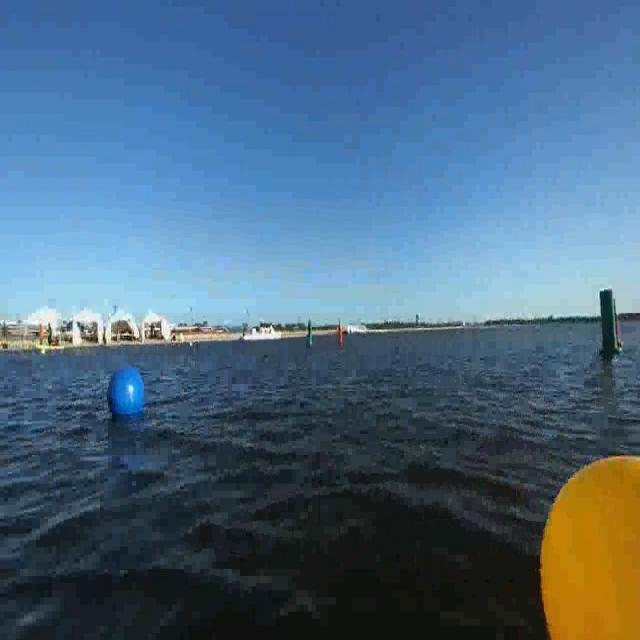blue-buoy: (108, 366, 146, 420)
green-column-buoy: (597, 284, 617, 359), (306, 318, 313, 352)
red-column-buoy: (616, 317, 623, 353), (337, 320, 342, 350)
yellow-buoy: (534, 449, 639, 640)
